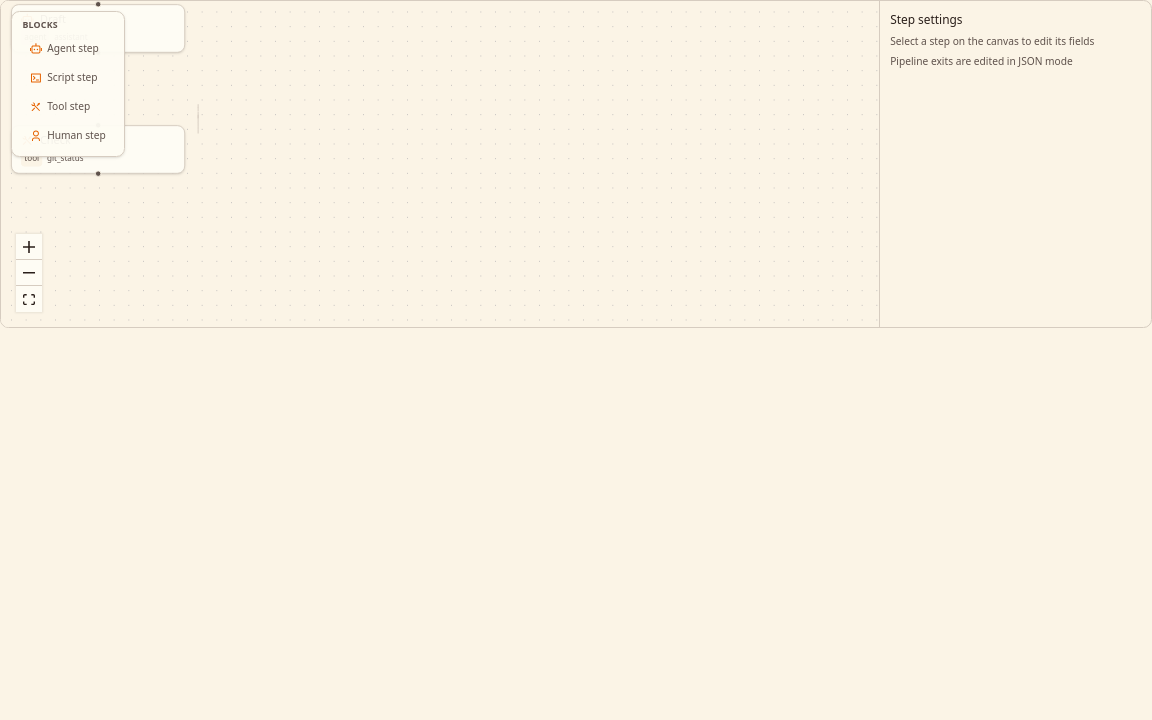
it: PipelineEditor — палитра: добавление шага › шаг вида «agent» появляется на канвасе и попадает в спецификацию
The width and height of the screenshot is (1152, 720).
Click the button "Agent step": click(68, 48) x1=19 y1=36 x2=117 y2=61
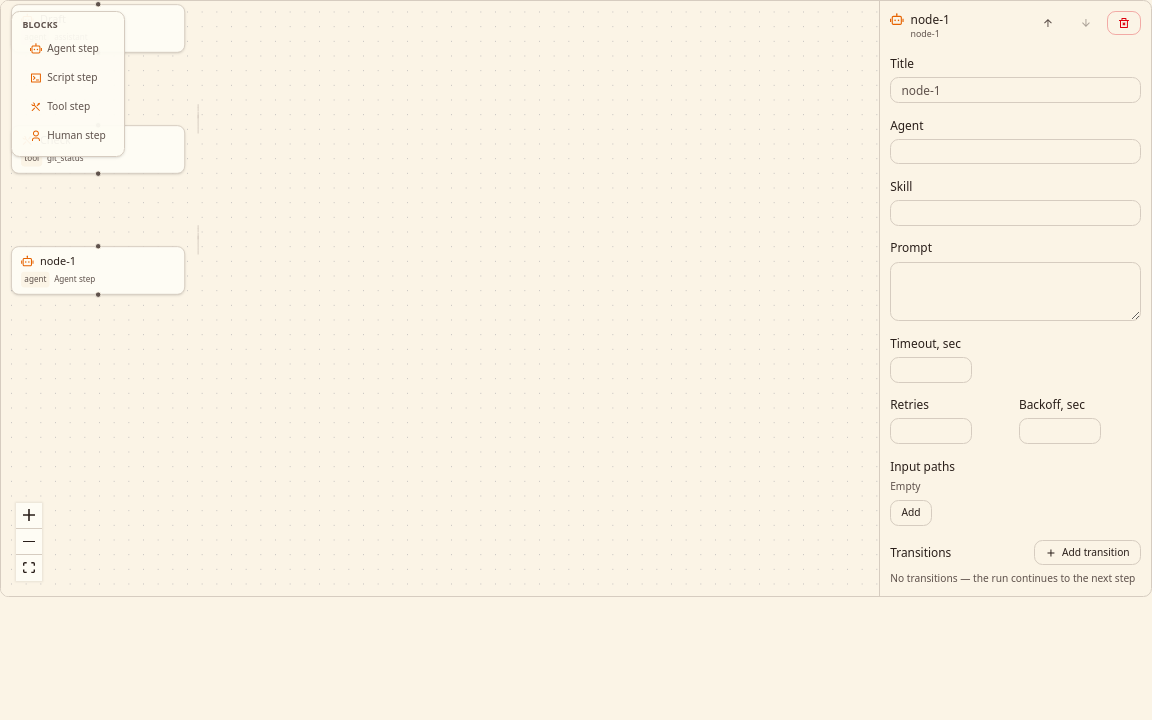
Expected: the text "agent" next to "assistant" is shown, x1=24 y1=32 x2=46 y2=43
Result: the element showing "node-1 agent Agent step" is shown at x1=11 y1=246 x2=186 y2=294
